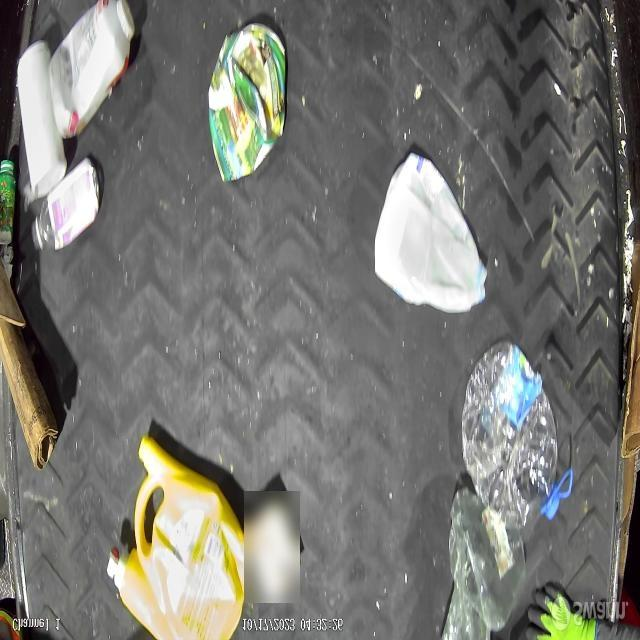milk_jug: (373, 155, 491, 315)
non_white_jug: (121, 431, 248, 638), (208, 25, 288, 185)
plastic_bottle: (466, 343, 560, 529)
